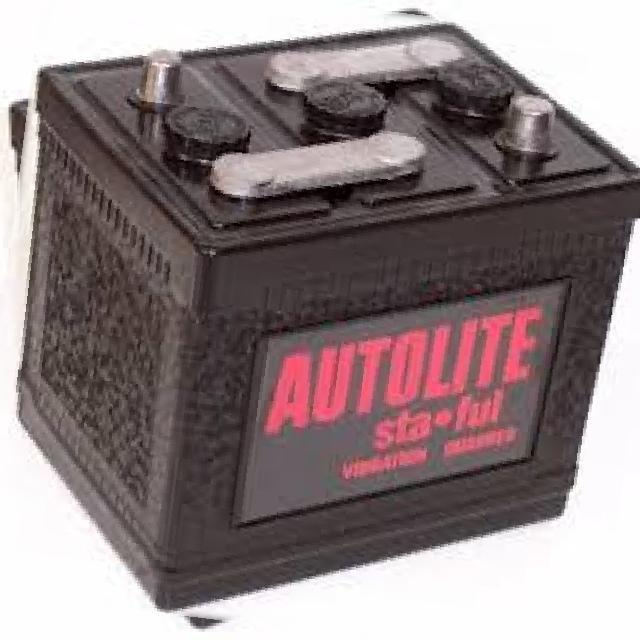Battery: (14, 0, 639, 617)
